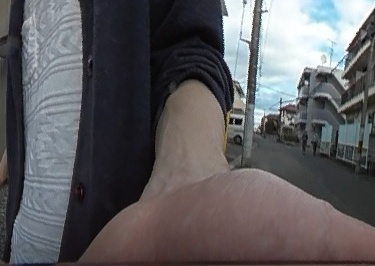person: (299, 128, 308, 153), (311, 130, 320, 154)
